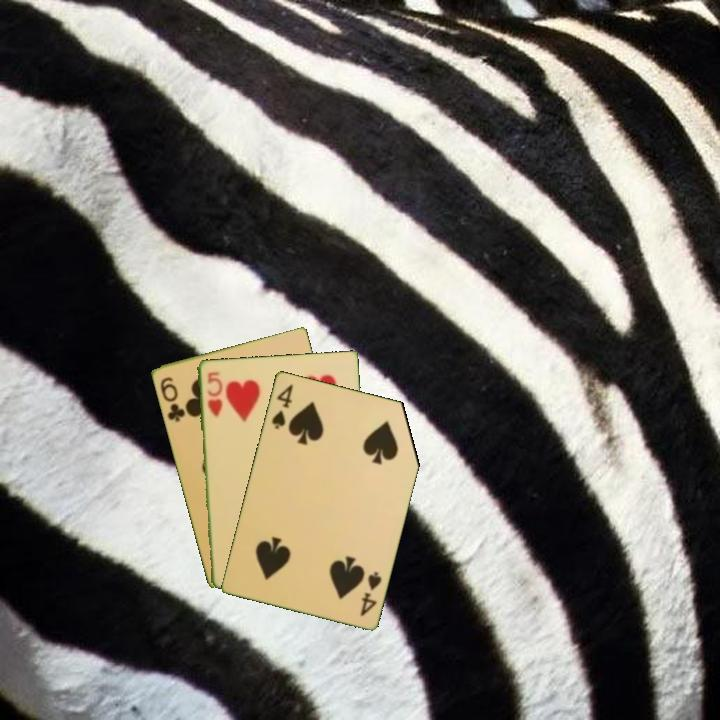4s: (268, 380, 296, 432), (356, 567, 384, 619)
5h: (203, 368, 225, 419)
6c: (156, 373, 188, 425)
